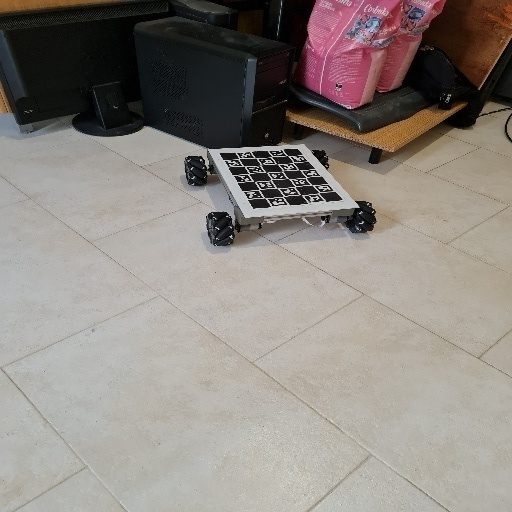Omniwheel: (184, 142, 379, 246)
